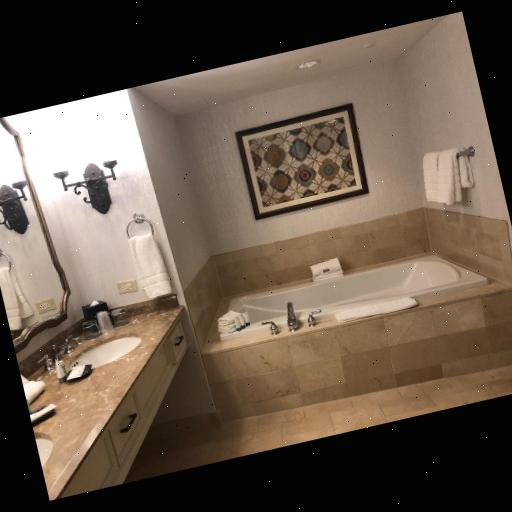clean_bathtub: (206, 254, 512, 424)
clean_floor: (130, 368, 512, 484)
clean_sink: (18, 293, 187, 505)
folded_towel: (126, 219, 180, 304), (415, 142, 480, 212), (332, 290, 424, 328)
